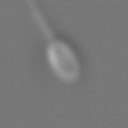normal: (23, 1, 55, 41)
